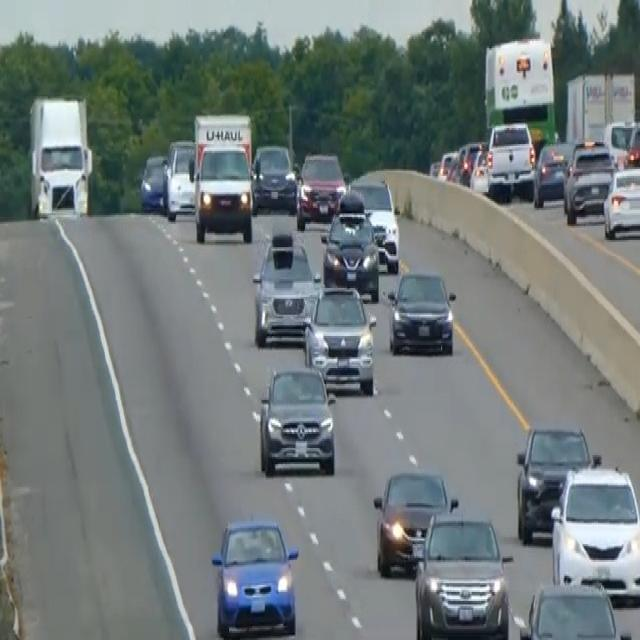bus: (482, 34, 558, 154)
car: (413, 503, 511, 638), (550, 460, 639, 601), (210, 514, 299, 638), (515, 422, 597, 542), (372, 466, 455, 576), (257, 362, 336, 477), (302, 281, 377, 395), (251, 229, 319, 347), (320, 190, 380, 300), (517, 578, 626, 638), (386, 265, 456, 355), (348, 174, 400, 272), (562, 137, 615, 224), (485, 119, 536, 199), (296, 150, 346, 228), (250, 140, 297, 213), (532, 139, 574, 208), (602, 164, 639, 240), (162, 137, 196, 219), (603, 117, 639, 169), (139, 153, 167, 211), (450, 139, 484, 185), (468, 144, 489, 194), (624, 119, 639, 169), (436, 150, 457, 180)
lorry: (27, 92, 94, 218)
minivan: (193, 140, 253, 242)
